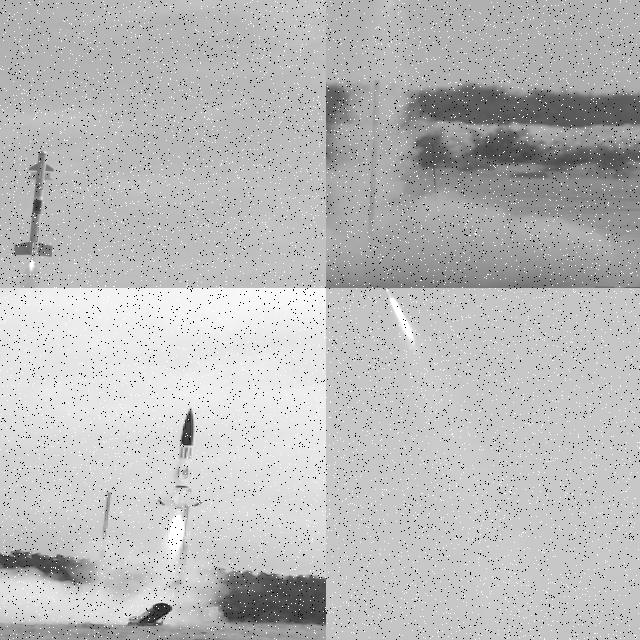Rocket: (156, 406, 204, 508), (13, 150, 54, 258)
